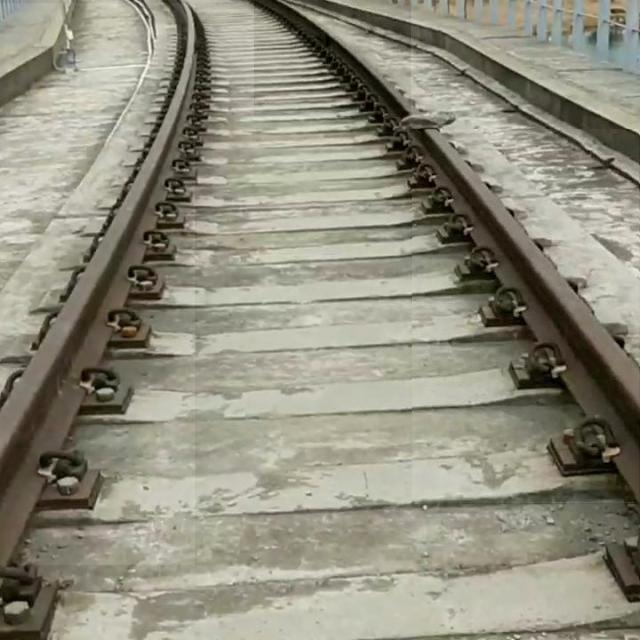rail: (1, 4, 196, 566), (414, 131, 640, 504), (255, 1, 412, 118)
